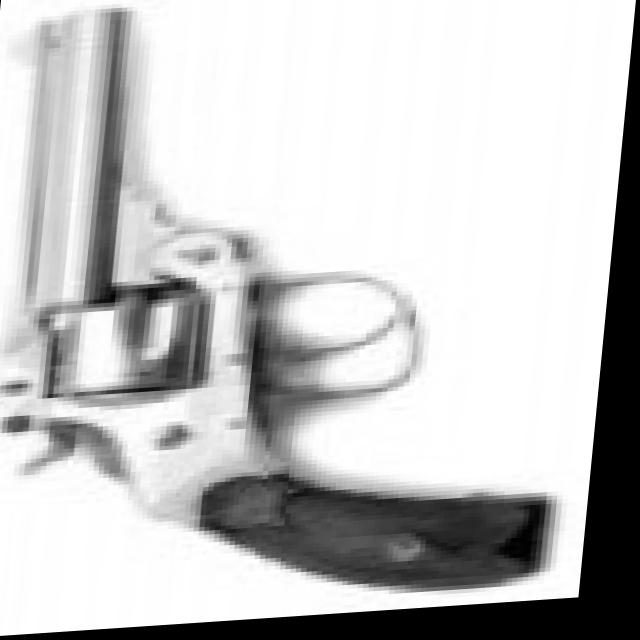handgun: (0, 0, 596, 623)
